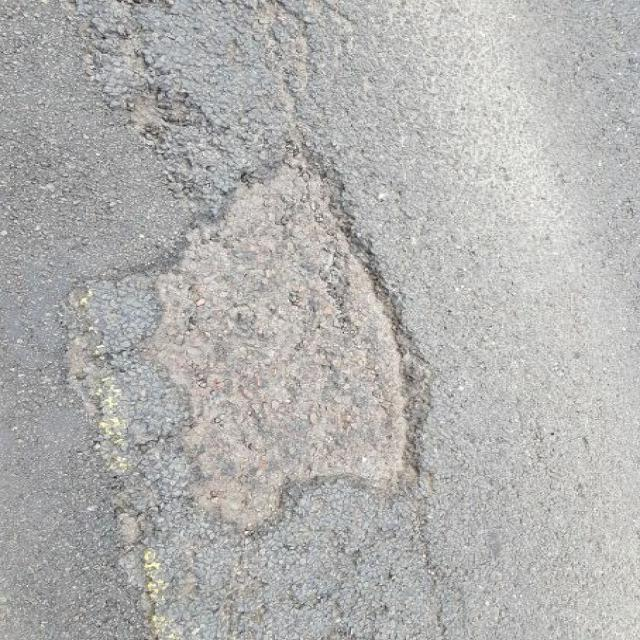Pothole: (76, 133, 441, 544)
